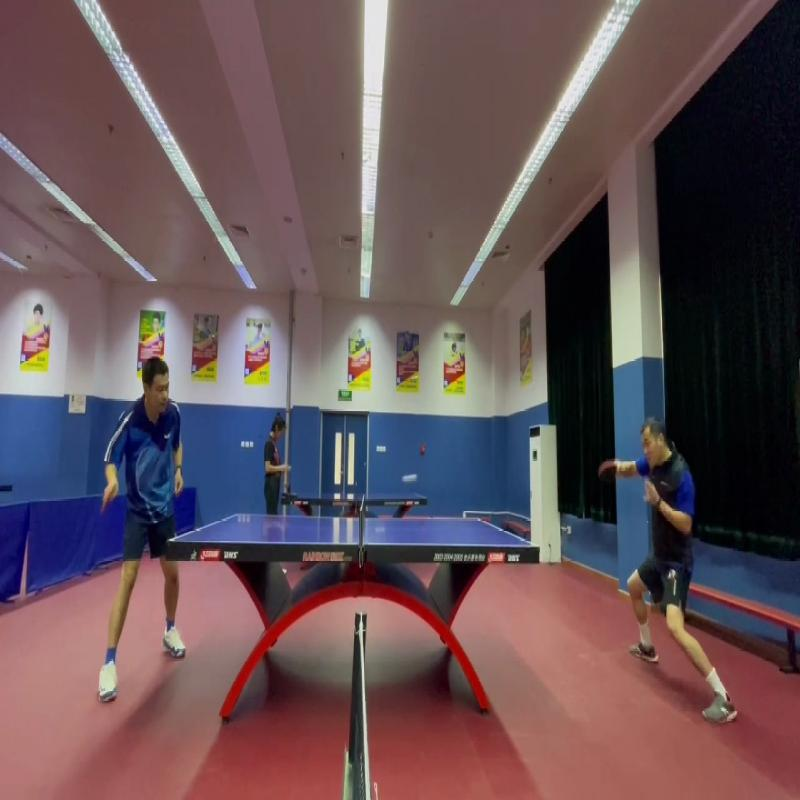bats: (96, 471, 123, 523)
